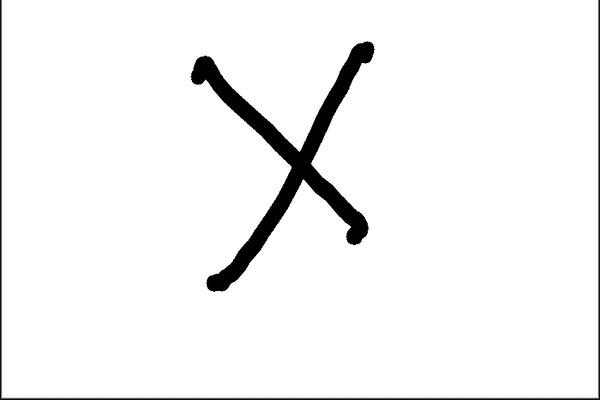X: (166, 31, 402, 300)
